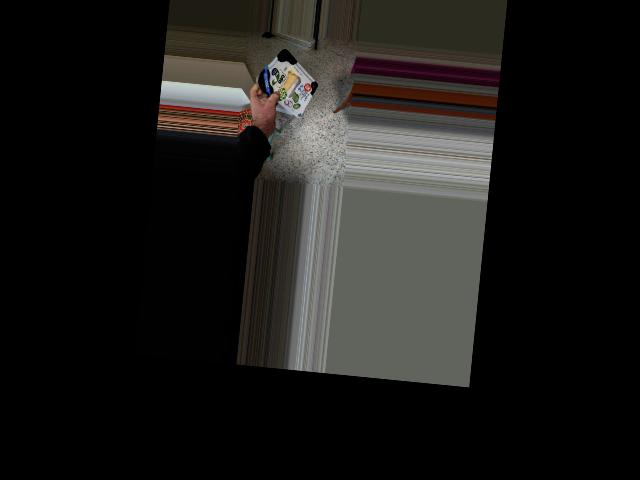cheese: (252, 48, 327, 115)
